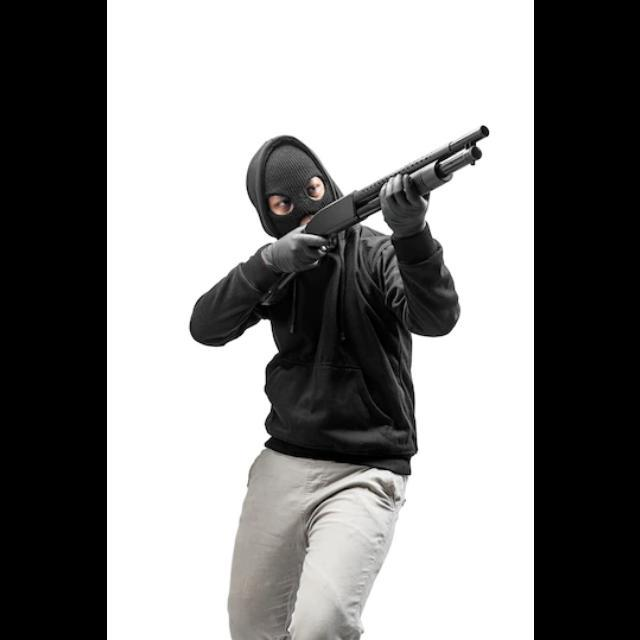criminal: (189, 120, 490, 640)
weapon: (256, 122, 490, 317)
